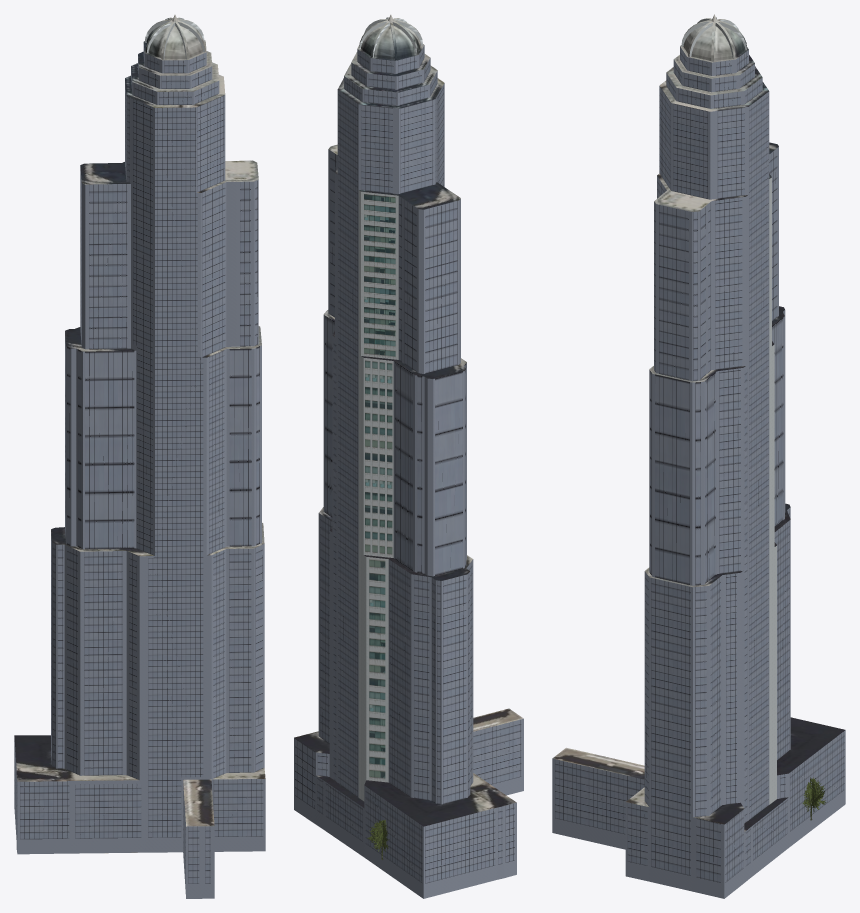
File: building03.fbx
The picture shows the model from 3 angles, left to right: view 1: azimuth 30°, elevation 25°; view 2: azimuth 150°, elevation 25°; view 3: azimuth 270°, elevation 25°; orthographic projection. The views are drawn at different scales.
Visible parts, largest first — view 1: Object.1741, geometryt040100010000000110110100110010010000110st43_Ci_3f5a, geometryt040100010000000110110100110010010000110st46_Ci_8930, geometryt040100010000000110110100110010010000110st45_Ci_c21b; view 2: Object.1741, geometryt040100010000000110110100110010010000110st43_Ci_3f5a, geometryt040100010000000110110100110010010000110st44_Ci_18c9, geometryt040100010000000110110100110010010000110st46_Ci_8930, geometryt040100010000000110110100110010010000110st45_Ci_c21b; view 3: Object.1741, geometryt040100010000000110110100110010010000110st43_Ci_3f5a, geometryt040100010000000110110100110010010000110st46_Ci_8930, geometryt040100010000000110110100110010010000110st45_Ci_c21b.
Part boxes in pixels (x1,y1,x2,y2): Object.1741: [14, 44, 263, 883]; geometryt040100010000000110110100110010010000110st43_Ci_3f5a: [14, 52, 265, 898]; geometryt040100010000000110110100110010010000110st46_Ci_8930: [14, 14, 265, 853]; geometryt040100010000000110110100110010010000110st45_Ci_c21b: [144, 18, 204, 59]; Object.1741: [295, 47, 521, 883]; geometryt040100010000000110110100110010010000110st43_Ci_3f5a: [294, 45, 523, 898]; geometryt040100010000000110110100110010010000110st44_Ci_18c9: [364, 192, 395, 781]; geometryt040100010000000110110100110010010000110st46_Ci_8930: [294, 14, 523, 826]; geometryt040100010000000110110100110010010000110st45_Ci_c21b: [358, 17, 423, 801]; Object.1741: [555, 47, 844, 882]; geometryt040100010000000110110100110010010000110st43_Ci_3f5a: [552, 46, 845, 898]; geometryt040100010000000110110100110010010000110st46_Ci_8930: [552, 14, 844, 831]; geometryt040100010000000110110100110010010000110st45_Ci_c21b: [681, 17, 776, 804].
Bounding box in the file's own units: 7442 × 24800 × 7865.
6 materials, 6 textured.
